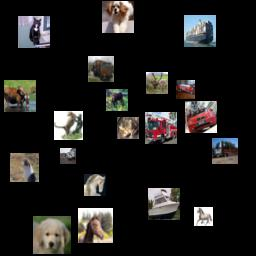automobile: (185, 101, 217, 133)
cat: (18, 16, 50, 48), (54, 111, 83, 140), (10, 153, 39, 182)
deer: (4, 80, 36, 112), (106, 89, 128, 111), (146, 72, 168, 94)
dog: (33, 216, 71, 254), (102, 1, 134, 33)
frog: (117, 117, 139, 139)
ship: (184, 15, 216, 47), (148, 188, 180, 220)
truck: (145, 112, 177, 144), (88, 56, 114, 82), (212, 138, 238, 164), (176, 80, 195, 99), (60, 148, 76, 164)
